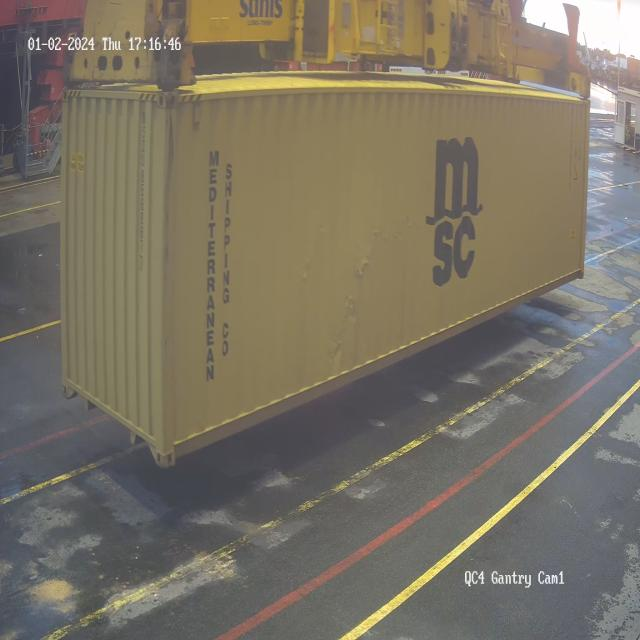dent: (304, 217, 405, 393)
